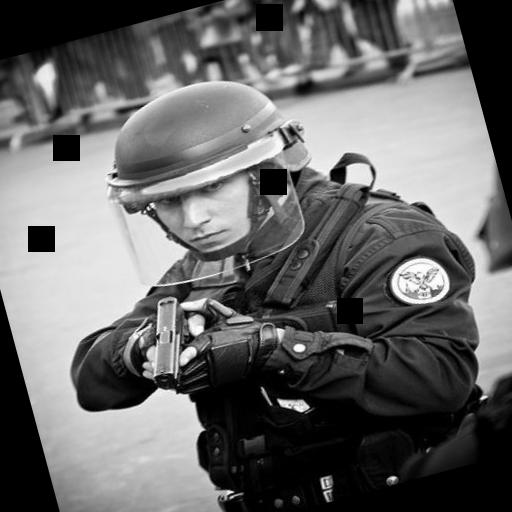Handgun: (132, 292, 206, 394)
